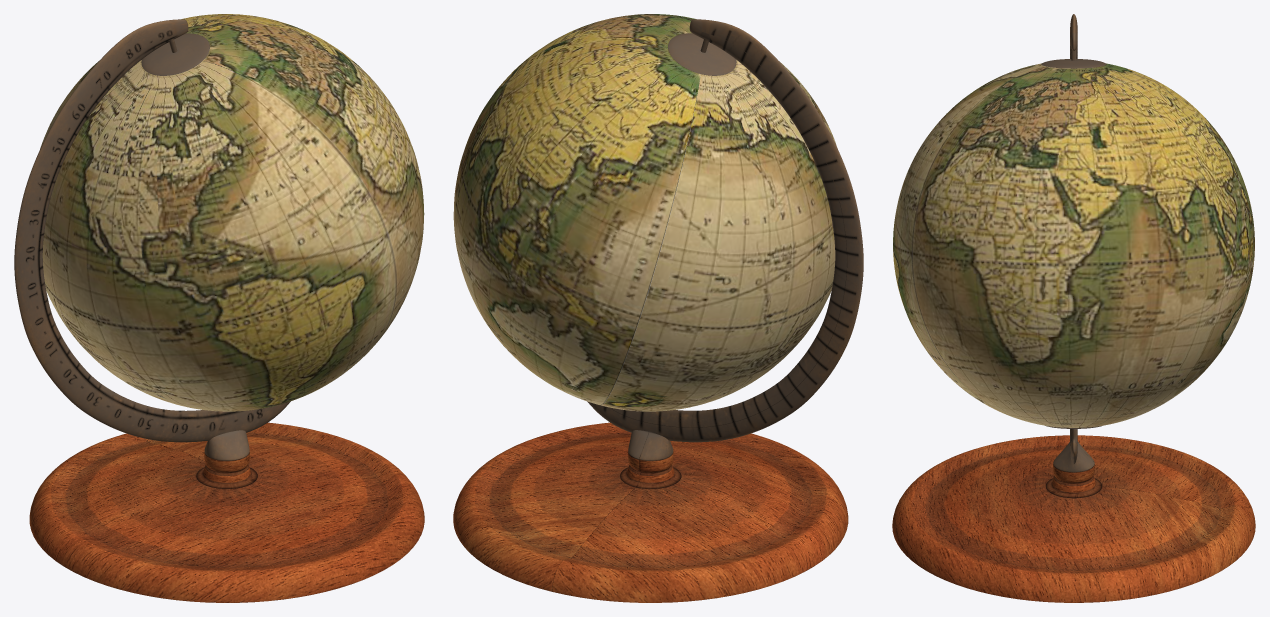
Rendered from globe.gltf.
The picture shows the model from 3 angles, left to right: view 1: azimuth 30°, elevation 25°; view 2: azimuth 150°, elevation 25°; view 3: azimuth 270°, elevation 25°; orthographic projection. The views are drawn at different scales.
Parts seen in each view (by area): view 1: globe; view 2: globe; view 3: globe.
Part boxes in pixels (x1,y1,x2,y2): globe: [14, 14, 424, 602]; globe: [453, 14, 863, 602]; globe: [892, 14, 1255, 602].
Size of the model in its own units: 0.1101 by 0.141 by 0.0982.
1 material, 1 textured.
